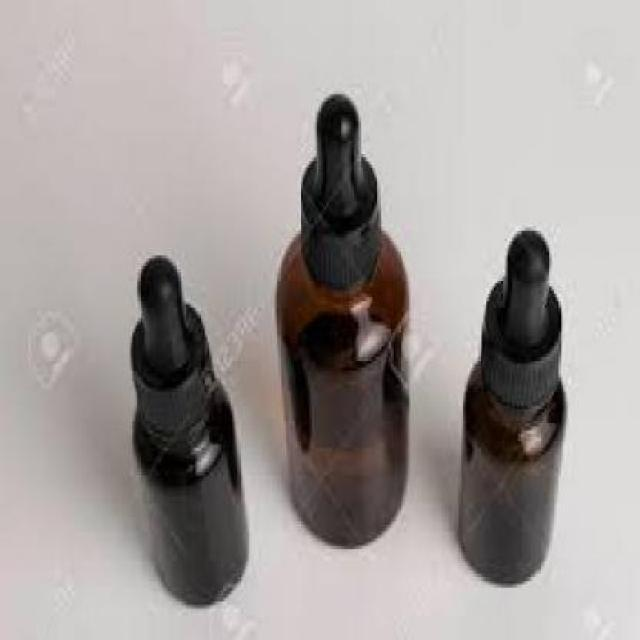kaca: (275, 231, 408, 546), (131, 388, 249, 602), (454, 357, 563, 585)
